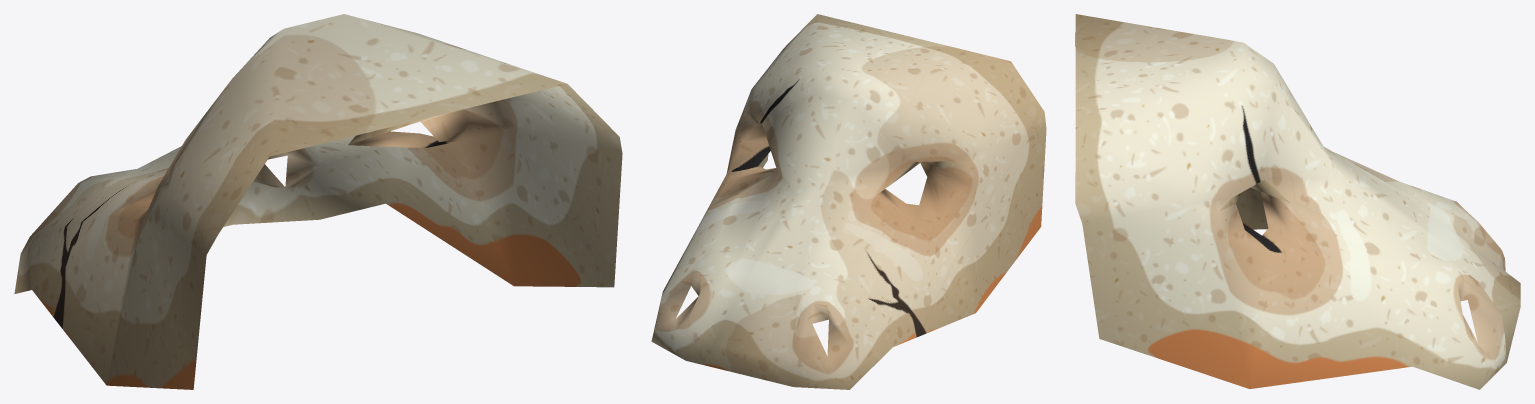
The model's file is cabecaDino01low.FBX.
The picture shows the model from 3 angles, left to right: view 1: azimuth 30°, elevation 25°; view 2: azimuth 150°, elevation 25°; view 3: azimuth 270°, elevation 25°; orthographic projection. The views are drawn at different scales.
Parts seen in each view (by area): view 1: cabecaDino; view 2: cabecaDino; view 3: cabecaDino.
Part boxes in pixels (<box>): cabecaDino: <box>14,14,622,389</box>; cabecaDino: <box>651,14,1046,389</box>; cabecaDino: <box>1075,14,1520,389</box>.
Size of the model in its own units: 637 by 497 by 728.
Materials: 1 (1 with a texture image).
